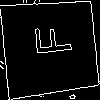F: (25, 22, 73, 58)
